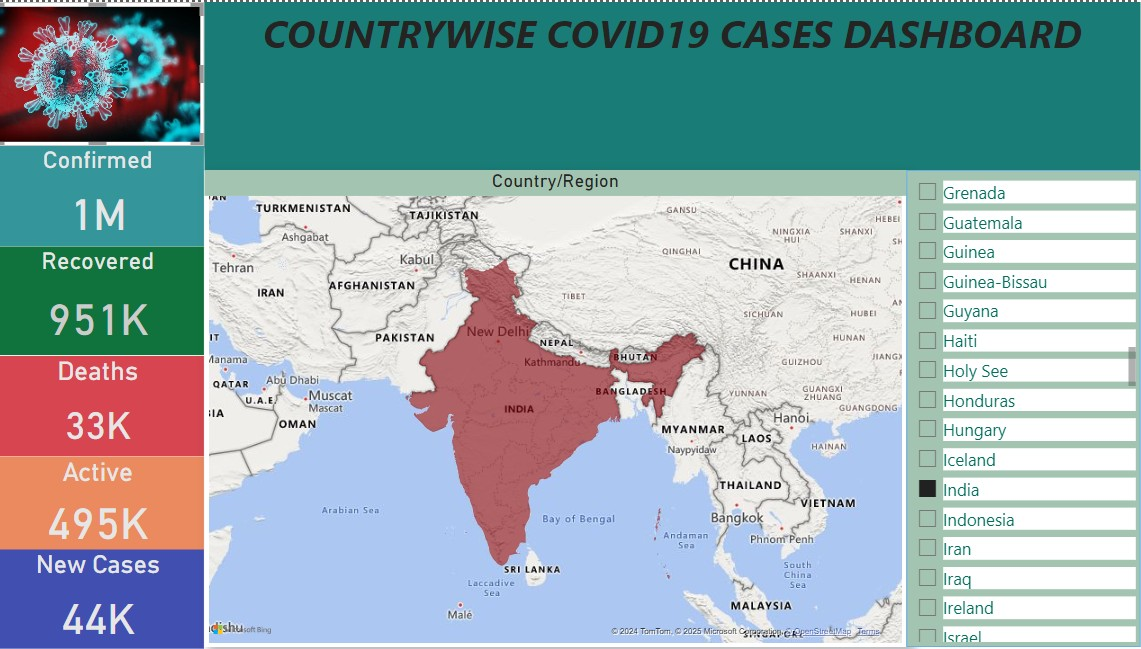

Layout of this report page (visuals, bound fields, positions):
{"tool":"powerbi","page":{"name":"Page 1","canvas":[1280,720],"ordinal":0},"visuals":[{"type":"image","box":[0,0,286.6,160.7],"z":0},{"type":"card","title":"Confirmed","fields":{"Values":["Sum(country_wise_latest.Confirmed)"]},"box":[1.9,160.6,236.2,111.5],"z":1000},{"type":"card","title":"Deaths","fields":{"Values":["Sum(country_wise_latest.Deaths)"]},"box":[1.9,393.1,236.2,111.5],"z":2000},{"type":"card","title":"Recovered","fields":{"Values":["Sum(country_wise_latest.Recovered)"]},"box":[1.9,272.1,236.2,120.9],"z":3000},{"type":"card","title":"Active","fields":{"Values":["Sum(country_wise_latest.Active)"]},"box":[1.9,504.6,236.2,103.9],"z":4000},{"type":"card","title":"New Cases","fields":{"Values":["Sum(country_wise_latest.New cases)"]},"box":[1.9,608.5,236.2,111.5],"z":5000},{"type":"textbox","box":[238.5,0,1040.3,187.2],"z":7000},{"type":"filledMap","fields":{"Category":["country_wise_latest.Country/Region"]},"box":[238.3,186.7,780,530],"z":7001},{"type":"slicer","fields":{"Values":["country_wise_latest.Country/Region"]},"box":[1018.3,186.7,260,530],"z":7002}]}

Visuals, with their boxes in screenshot pixels (x1, y1, x2, y2), scaled from the page's 1280x720 canvas onto the 1141x649 screenshot:
image: rect(0, 0, 255, 145)
"Confirmed" card: rect(2, 145, 212, 245)
"Deaths" card: rect(2, 354, 212, 455)
"Recovered" card: rect(2, 245, 212, 354)
"Active" card: rect(2, 455, 212, 548)
"New Cases" card: rect(2, 548, 212, 648)
textbox: rect(213, 0, 1140, 169)
filledMap - country_wise_latest.Country/Region: rect(212, 168, 908, 646)
slicer - country_wise_latest.Country/Region: rect(908, 168, 1139, 646)
